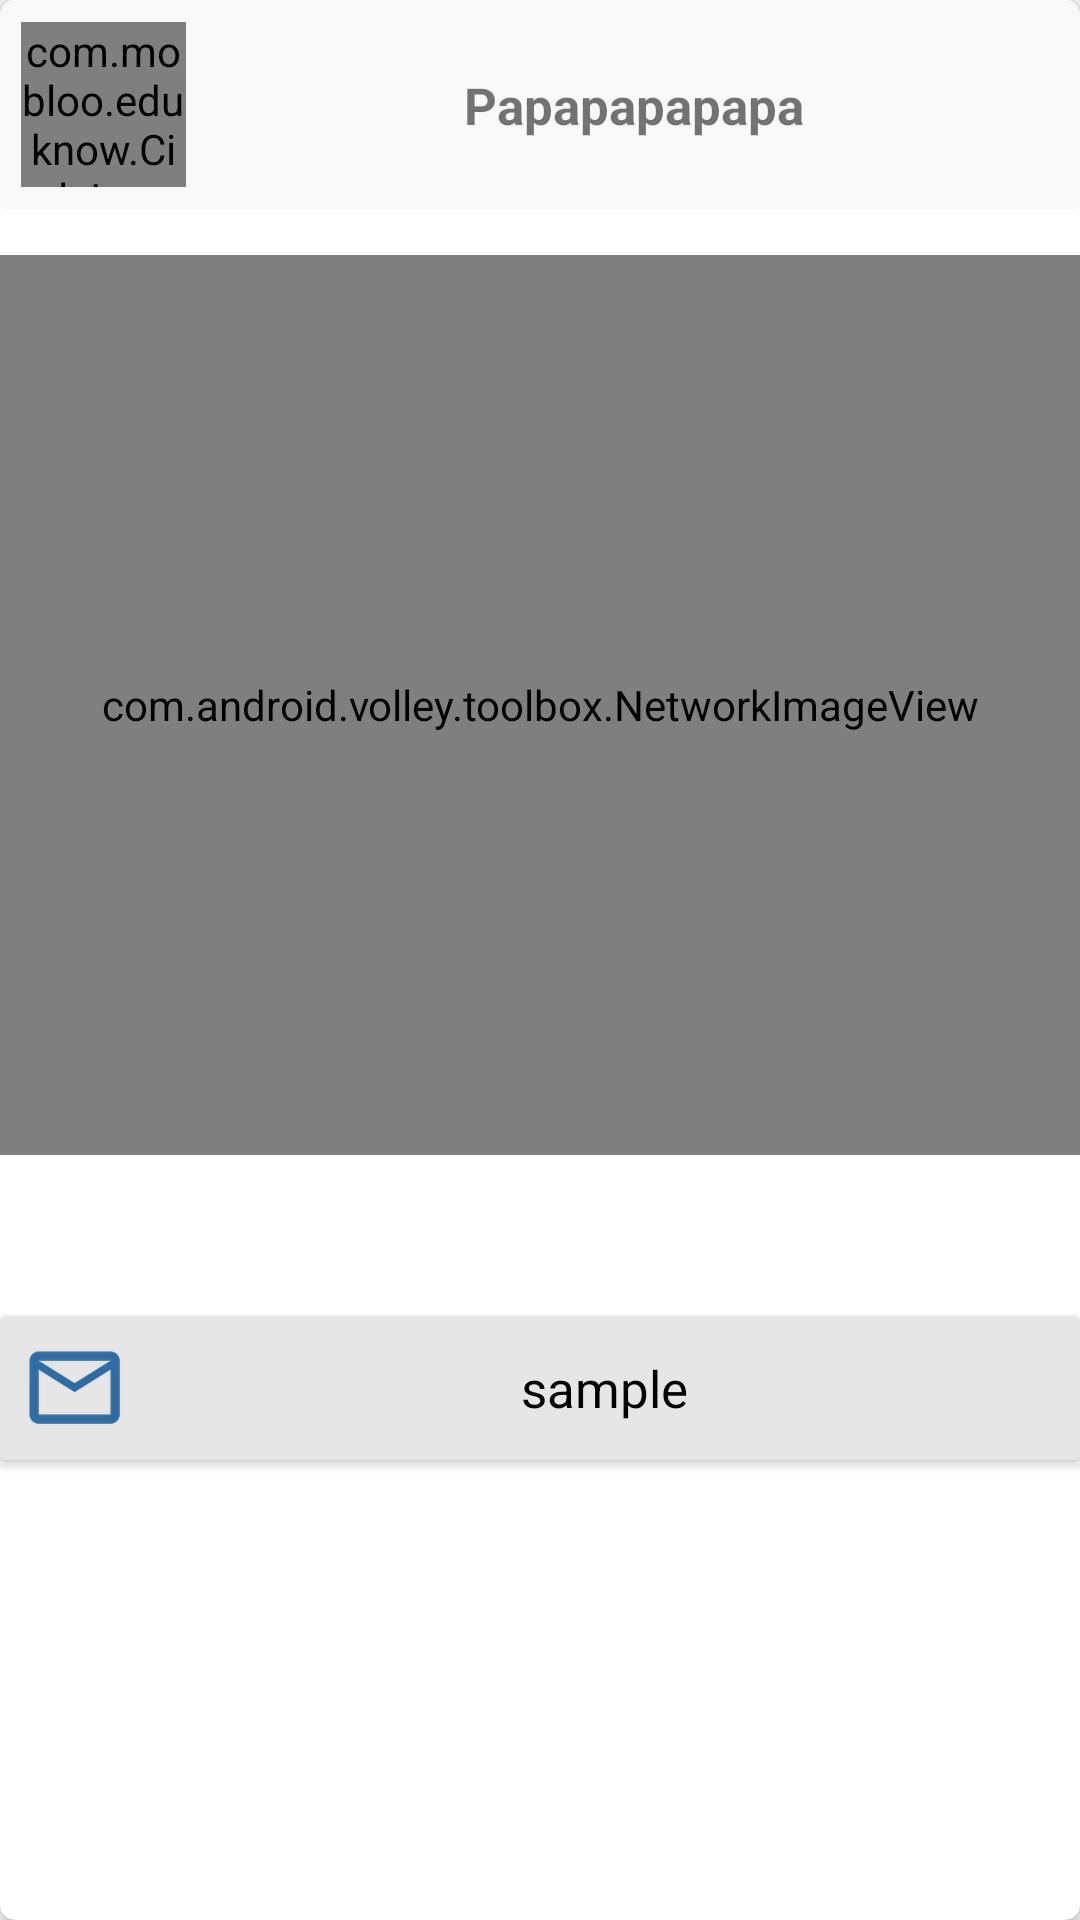

Screen size 1080 × 1920. Icon name, then its center in pixels as [x,y]:
mail: [74,1387]
